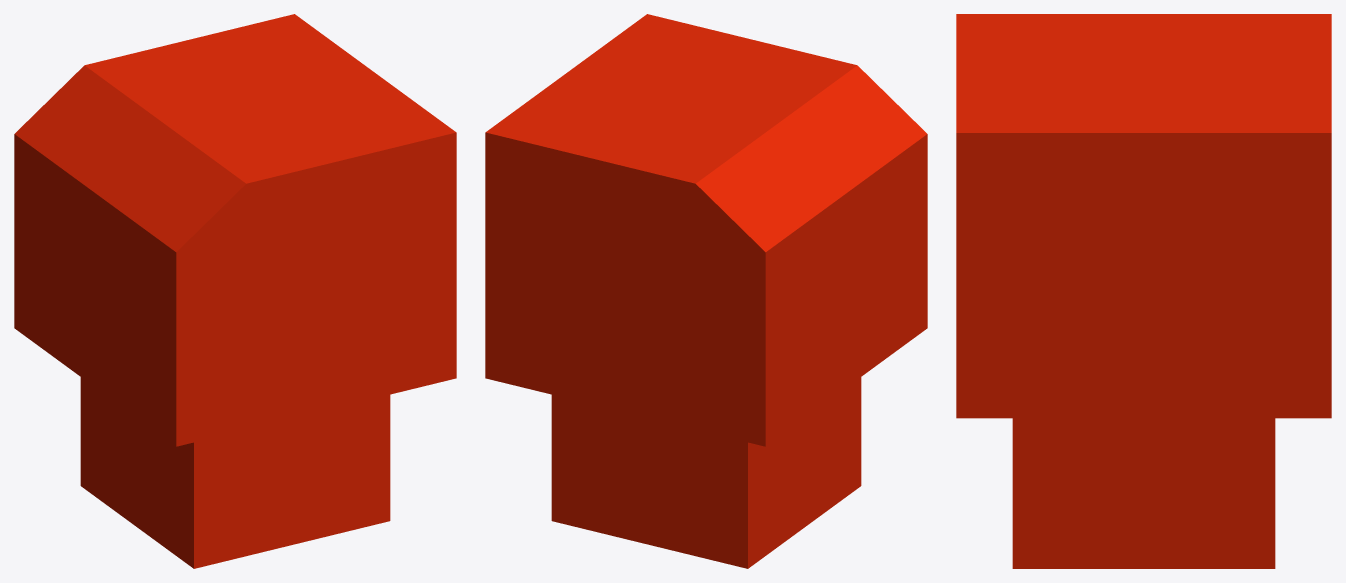
File: fire punch.fbx
The picture shows the model from 3 angles, left to right: view 1: azimuth 30°, elevation 25°; view 2: azimuth 150°, elevation 25°; view 3: azimuth 270°, elevation 25°; orthographic projection. The views are drawn at different scales.
Visible parts, largest first — view 1: 큐브.001, 큐브; view 2: 큐브.001, 큐브; view 3: 큐브.001, 큐브.
Part boxes in pixels (x1=…): 큐브.001: x1=14, y1=14, x2=456, y2=446; 큐브: x1=80, y1=377, x2=390, y2=568; 큐브.001: x1=485, y1=14, x2=927, y2=446; 큐브: x1=551, y1=377, x2=861, y2=568; 큐브.001: x1=956, y1=14, x2=1331, y2=418; 큐브: x1=1012, y1=418, x2=1275, y2=568.
Bounding box in the file's own units: 200 × 270 × 200.
